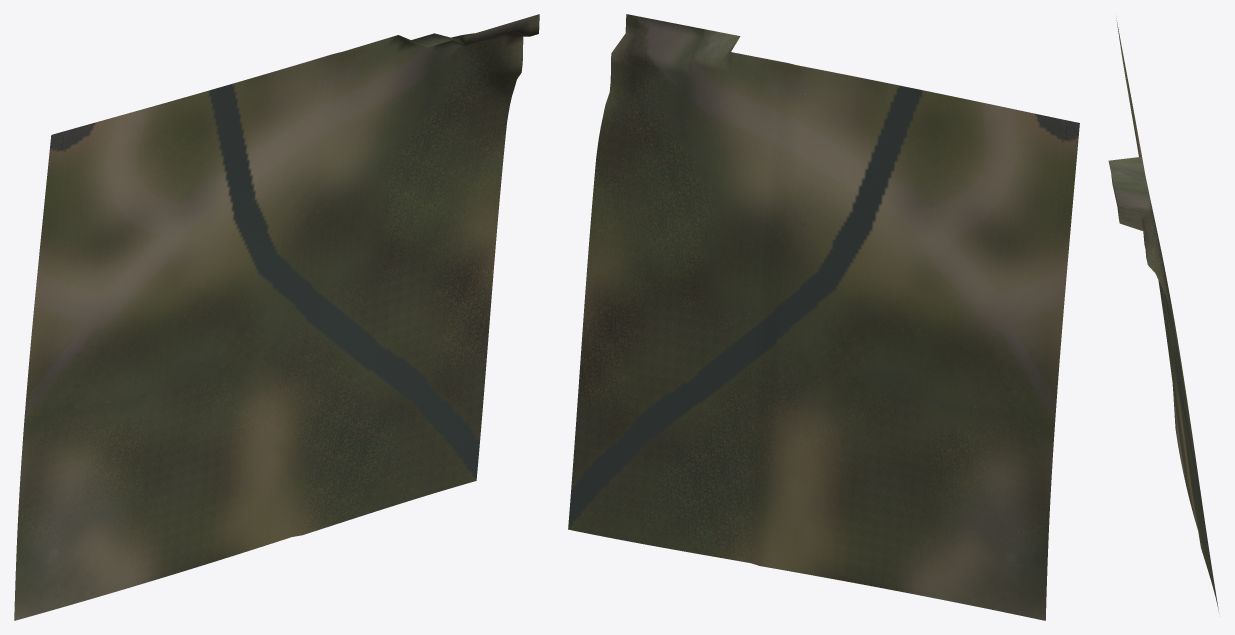
Rendered from ground_core_02_03.obj.
3 views of the same model, side by side, from view 1: azimuth 30°, elevation 25°; view 2: azimuth 150°, elevation 25°; view 3: azimuth 270°, elevation 25° (orthographic). The views are drawn at different scales.
Parts seen in each view (by area): view 1: ground_core_02_03; view 2: ground_core_02_03; view 3: ground_core_02_03.
Boxes of the visible parts, left/top/right/bottom form: ground_core_02_03: left=14, top=14, right=539, bottom=620; ground_core_02_03: left=568, top=14, right=1079, bottom=620; ground_core_02_03: left=1108, top=18, right=1218, bottom=611.
Size of the model in its own units: 50 by 50 by 12.27.
Materials: 1 (1 with a texture image).
